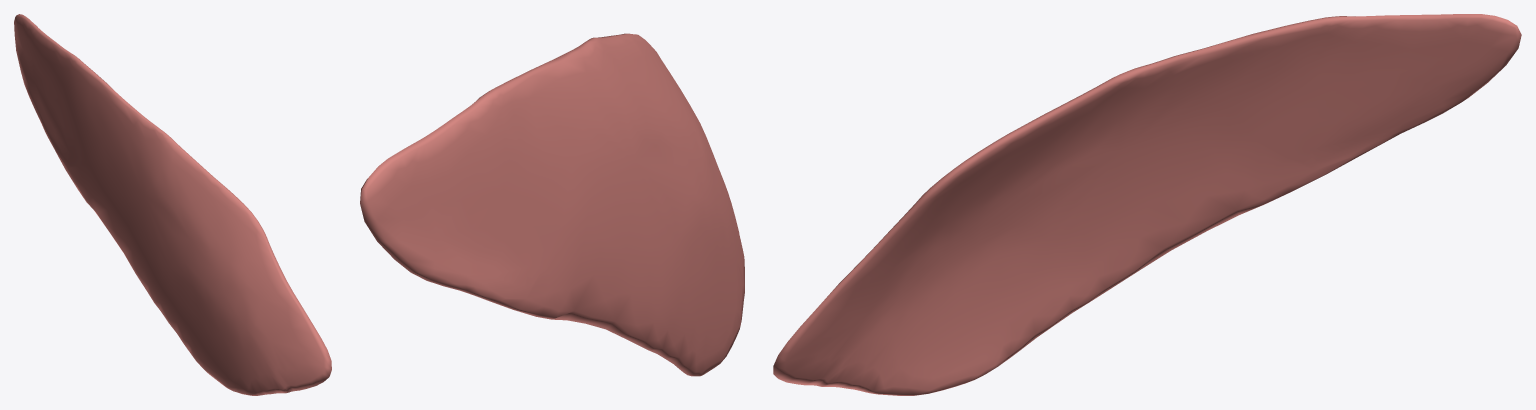
3 views of the same model, side by side, from view 1: azimuth 30°, elevation 25°; view 2: azimuth 150°, elevation 25°; view 3: azimuth 270°, elevation 25° (orthographic). The views are drawn at different scales.
Parts seen in each view (by area): view 1: ZA_c7a1d0cb28c1a903; view 2: ZA_c7a1d0cb28c1a903; view 3: ZA_c7a1d0cb28c1a903.
Boxes of the visible parts, x1,y1,x2,y2 form: ZA_c7a1d0cb28c1a903: (14,14,331,395); ZA_c7a1d0cb28c1a903: (360,33,744,376); ZA_c7a1d0cb28c1a903: (773,14,1521,395).
Size of the model in its own units: 0.00674 by 0.0181 by 0.0336.
